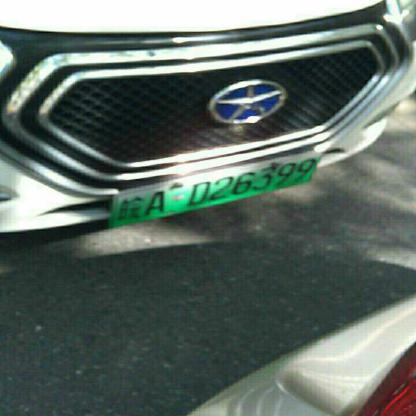lp: (111, 151, 323, 229)
